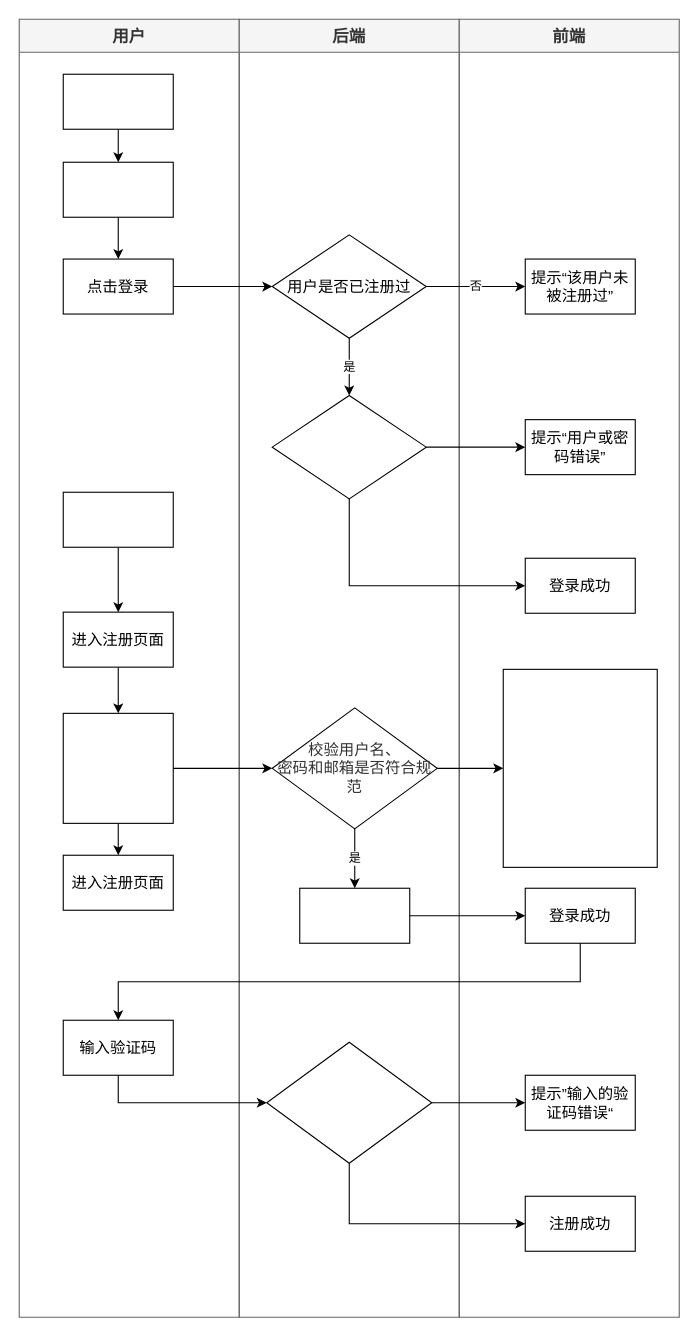
The diagram is 699 pixels wide and 1337 high, and some of its shapes have lost their labels. The centre of each missing label's shape, as x and y in pixels:
发送验证码到对应邮箱: [354,915]
校验用户名和 密码是否正确: [348,446]
校验验证码是否正确: [349,1102]
点击注册: [117,519]
若用户名不符合规范，则提示用户错误； 若密码不符合规范，则提示密码错误； 若邮箱不符合规范，则提示邮箱错误；: [579,767]
输入密码: [117,189]
输入用户名: [117,101]
输入用户名 输入密码 重复输入密码 输入邮箱: [117,767]
